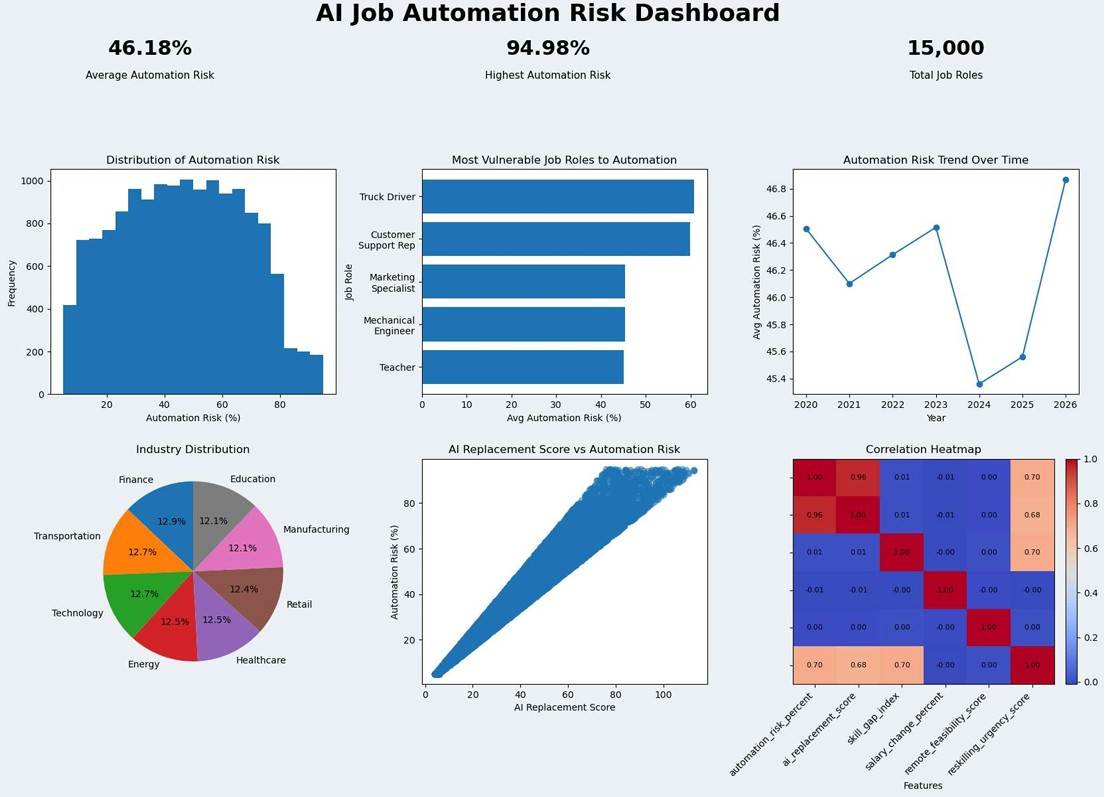

Layout of this report page (visuals, bound fields, positions):
{"tool":"tableau","page":{"name":"Dashboard","canvas":[1600,900],"ordinal":0},"visuals":[{"type":"text","box":[13,13,1574,51]},{"type":"worksheet","title":"KPI - Max Automation Risk","mark":"Automatic","box":[13,64,520,118]},{"type":"worksheet","title":"KPI - Total Job Roles","mark":"Automatic","box":[533,64,533,118]},{"type":"worksheet","title":"KPI - Avg Automation Risk","mark":"Automatic","box":[1066,64,521,118]},{"type":"worksheet","title":"Scatter Plot","mark":"Circle","rows":["reskilling_urgency_score"],"cols":["skill_gap_index"],"box":[13,182,553,248]},{"type":"worksheet","title":"Histogram","mark":"Automatic","rows":["automation_risk_percent"],"cols":["Automation Risk Percent (bin)"],"box":[566,182,894,248]},{"type":"legend","title":"Heatmap","param":"[federated.1yyuasm1w95noe15sswyt1hpaow4].[avg:automation_risk_percent:qk]","box":[1460,182,127,158]},{"type":"legend","title":"Line Chart","param":"[federated.1yyuasm1w95noe15sswyt1hpaow4].[none:Forecast Indicator:nk]","box":[1460,340,127,64]},{"type":"worksheet","title":"Bar Chart","mark":"Automatic","rows":["job_role"],"cols":["automation_risk_percent"],"box":[13,430,283,457]},{"type":"worksheet","title":"Line Chart","mark":"Automatic","rows":["automation_risk_percent"],"cols":["year"],"box":[296,430,846,197]},{"type":"worksheet","title":"Pie Chart","mark":"Pie","box":[1142,430,318,457]},{"type":"worksheet","title":"Heatmap","mark":"Square","rows":["industry"],"cols":["job_role"],"box":[296,627,846,260]}]}

Visuals, with their boxes on the page's 1600x900 design canvas (x1, y1, x2, y2). These are canvas units, not pixel positions in the 1105x797 screenshot, which may show the page scaled, cropped or inside an application window:
text: left=13, top=13, right=1587, bottom=64
"KPI - Max Automation Risk" worksheet: left=13, top=64, right=533, bottom=182
"KPI - Total Job Roles" worksheet: left=533, top=64, right=1066, bottom=182
"KPI - Avg Automation Risk" worksheet: left=1066, top=64, right=1587, bottom=182
"Scatter Plot" worksheet (Circle marks): left=13, top=182, right=566, bottom=430
"Histogram" worksheet: left=566, top=182, right=1460, bottom=430
"Heatmap" legend: left=1460, top=182, right=1587, bottom=340
"Line Chart" legend: left=1460, top=340, right=1587, bottom=404
"Bar Chart" worksheet: left=13, top=430, right=296, bottom=887
"Line Chart" worksheet: left=296, top=430, right=1142, bottom=627
"Pie Chart" worksheet (Pie marks): left=1142, top=430, right=1460, bottom=887
"Heatmap" worksheet (Square marks): left=296, top=627, right=1142, bottom=887
